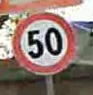limite 50: (11, 11, 76, 76)
